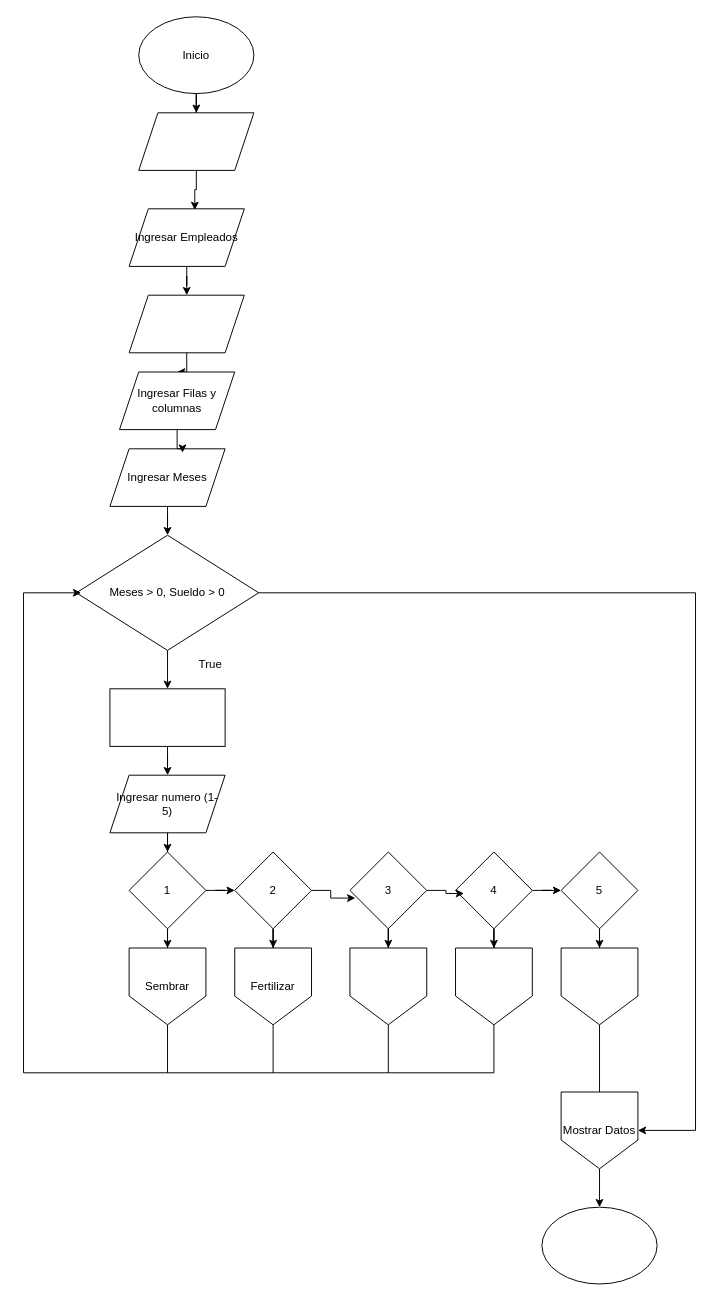
Image size: 720x1301. Some labels were removed from this diagram. Each missing label, with the centre of its shape:
"Avanzar Mes" belongs at (493,986).
"Consultar parcela" belongs at (388,986).
"Fin" belongs at (599,1245).
"Ingresar SueldoEmpleados" belongs at (186,323).
"Ingresar SueldoInicial" belongs at (196,141).
"Mostrar Menu" belongs at (167,717).
"Salir" belongs at (599,986).
